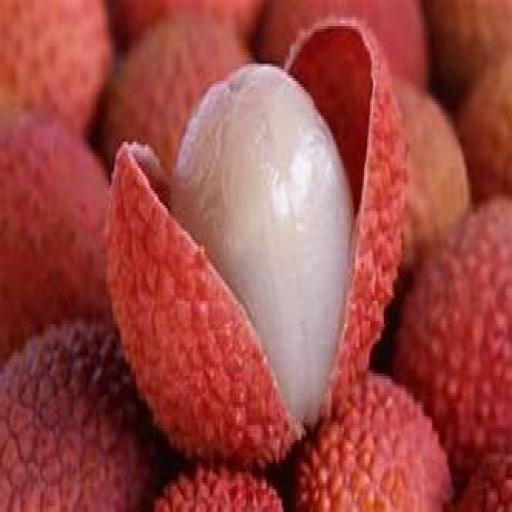lychee: (108, 21, 405, 465), (394, 200, 511, 483), (0, 324, 158, 511), (0, 113, 109, 361), (102, 18, 249, 176), (295, 377, 451, 511), (0, 0, 112, 133), (260, 0, 428, 86), (397, 81, 470, 269), (423, 0, 511, 104), (459, 55, 511, 202), (112, 0, 265, 43), (155, 469, 282, 511), (457, 455, 511, 511)
